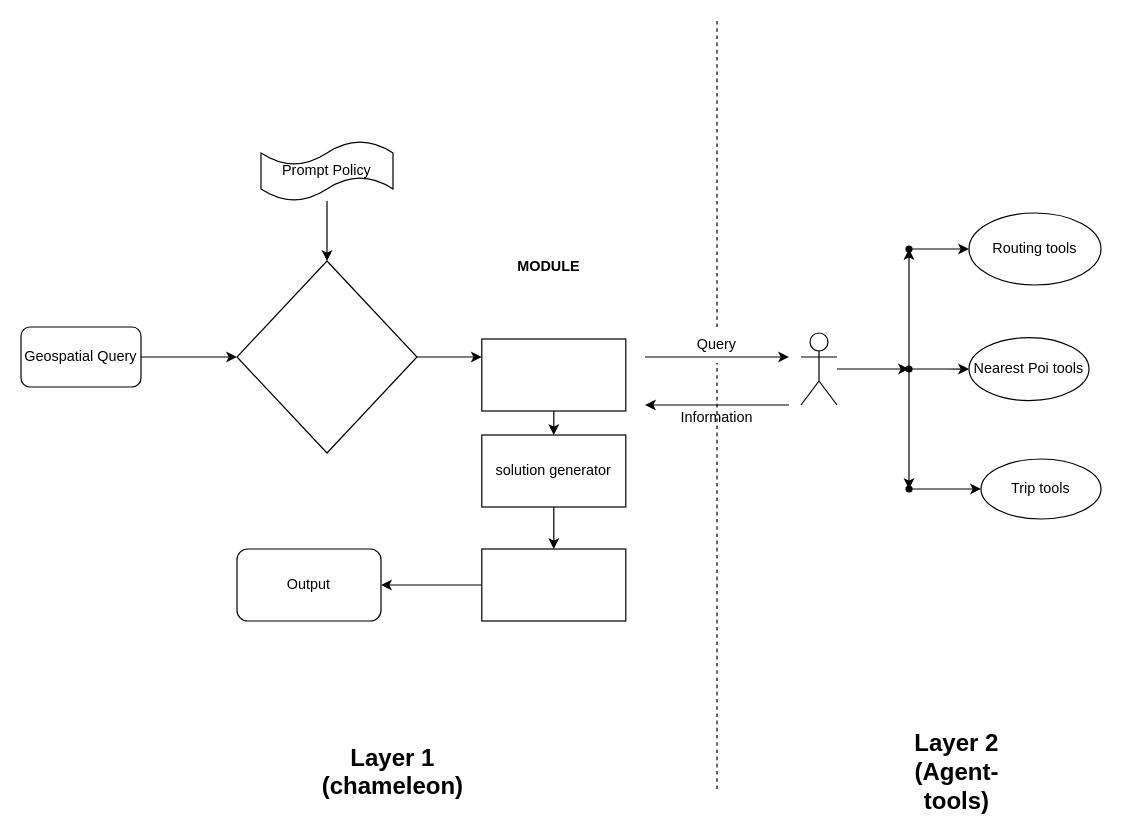
The diagram is 1122 pixels wide and 835 high, and some of its shapes have lost their labels. Here are the shapes that lost their labels. From the top down, the centre of each, then its label:
the point at 326,356: Planer
the point at 553,374: google maps
the point at 818,368: Agent
the point at 553,584: answer generator
